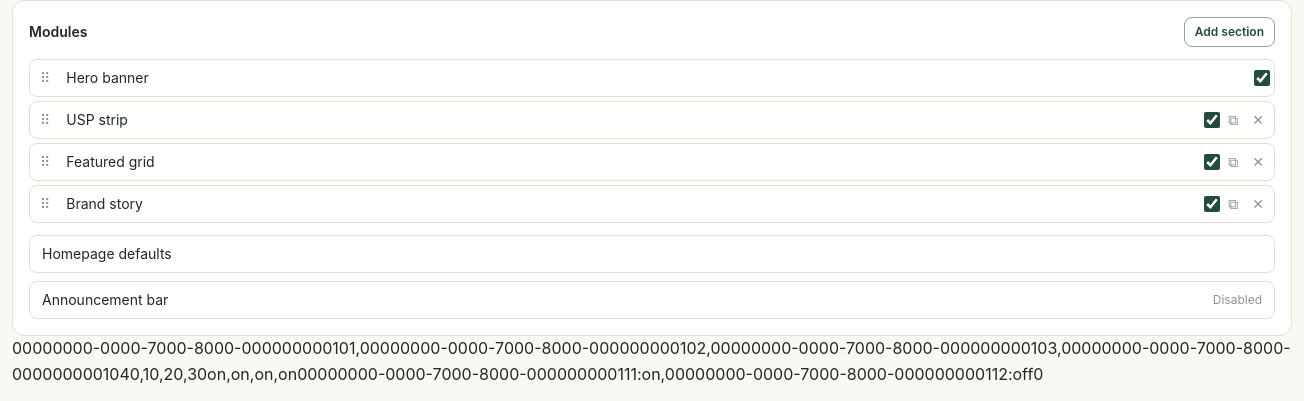
Test: ModuleTree › shows the homepage defaults pseudo-node and selects it
The image size is (1304, 401).
Click the button "Homepage defaults" at (107, 254), box [29,235,1275,273]
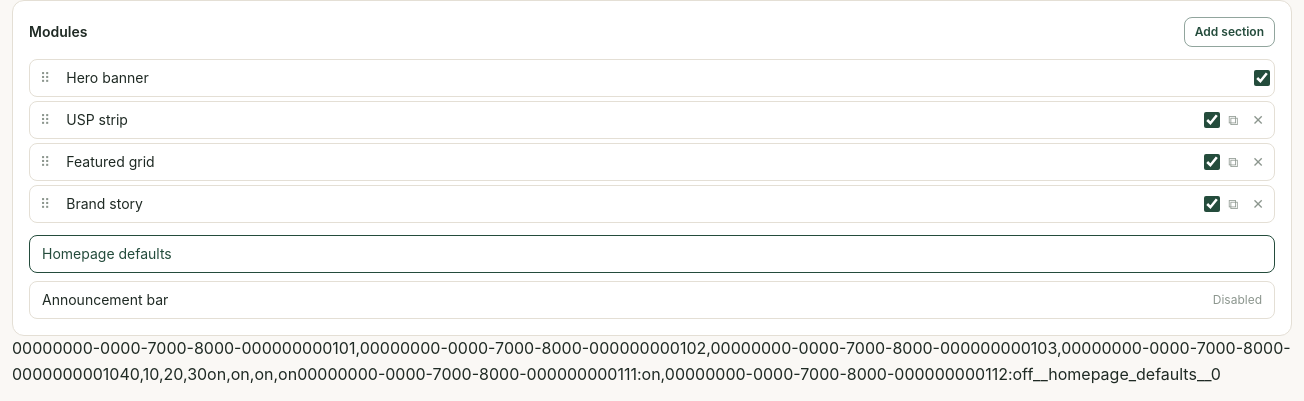
Expected: the text with test id "selected-section" reads "__homepage_defaults__", [1033,364,1211,384]
